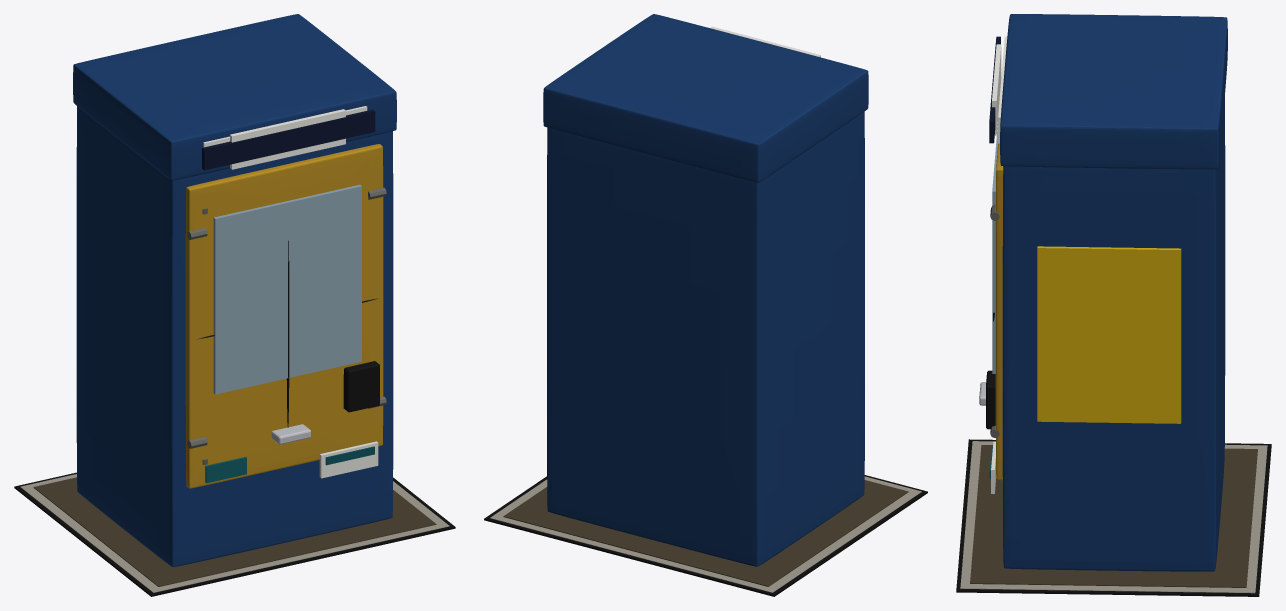
The model's file is hm_prop_newsbox_v2.obj.
3 renders of one model, left to right at view 1: azimuth 30°, elevation 25°; view 2: azimuth 150°, elevation 25°; view 3: azimuth 270°, elevation 25°, orthographic. The views are drawn at different scales.
Parts seen in each view (by area): view 1: News_Body, News_Door, News_Header, News_Win, hm_prop_newsbox_v2_Dirt, hm_prop_newsbox_v2_SaltRing, News_Mast, hm_prop_newsbox_v2_Shadow, hm_prop_newsbox_v2_HeraldDecal, News_Coin, hm_prop_newsbox_v2_HeraldInk, hm_prop_newsbox_v2_AssetPlate (+2 smaller); view 2: News_Body, News_Header, hm_prop_newsbox_v2_Dirt, hm_prop_newsbox_v2_SaltRing, hm_prop_newsbox_v2_Shadow; view 3: News_Body, News_Header, News_SideAd, hm_prop_newsbox_v2_Dirt, hm_prop_newsbox_v2_SaltRing, hm_prop_newsbox_v2_Shadow, News_Door, News_Win, hm_prop_newsbox_v2_HeraldDecal, News_Coin.
Part boxes in pixels (box(x1,y1,x2,y2)): News_Body: box(76, 106, 393, 566); News_Door: box(185, 144, 383, 488); News_Header: box(73, 14, 396, 180); News_Win: box(213, 184, 361, 394); hm_prop_newsbox_v2_Dirt: box(33, 477, 436, 586); hm_prop_newsbox_v2_SaltRing: box(20, 474, 449, 592); News_Mast: box(202, 109, 375, 170); hm_prop_newsbox_v2_Shadow: box(14, 472, 455, 596); hm_prop_newsbox_v2_HeraldDecal: box(230, 109, 345, 169); News_Coin: box(343, 361, 379, 412); hm_prop_newsbox_v2_HeraldInk: box(245, 122, 334, 158); hm_prop_newsbox_v2_AssetPlate: box(319, 441, 378, 478); News_Body: box(547, 111, 864, 566); News_Header: box(543, 14, 868, 182); hm_prop_newsbox_v2_Dirt: box(503, 480, 908, 586); hm_prop_newsbox_v2_SaltRing: box(490, 476, 921, 592); hm_prop_newsbox_v2_Shadow: box(484, 475, 927, 596); News_Body: box(1002, 97, 1225, 571); News_Header: box(1000, 14, 1227, 169); News_SideAd: box(1037, 246, 1181, 423); hm_prop_newsbox_v2_Dirt: box(970, 445, 1257, 587); hm_prop_newsbox_v2_SaltRing: box(960, 441, 1267, 593); hm_prop_newsbox_v2_Shadow: box(956, 439, 1271, 596); News_Door: box(995, 143, 1003, 480); News_Win: box(992, 123, 997, 373); hm_prop_newsbox_v2_HeraldDecal: box(992, 44, 1001, 135); News_Coin: box(986, 370, 995, 429).
Size of the model in its own units: 0.7691 by 1.03 by 0.6582.
